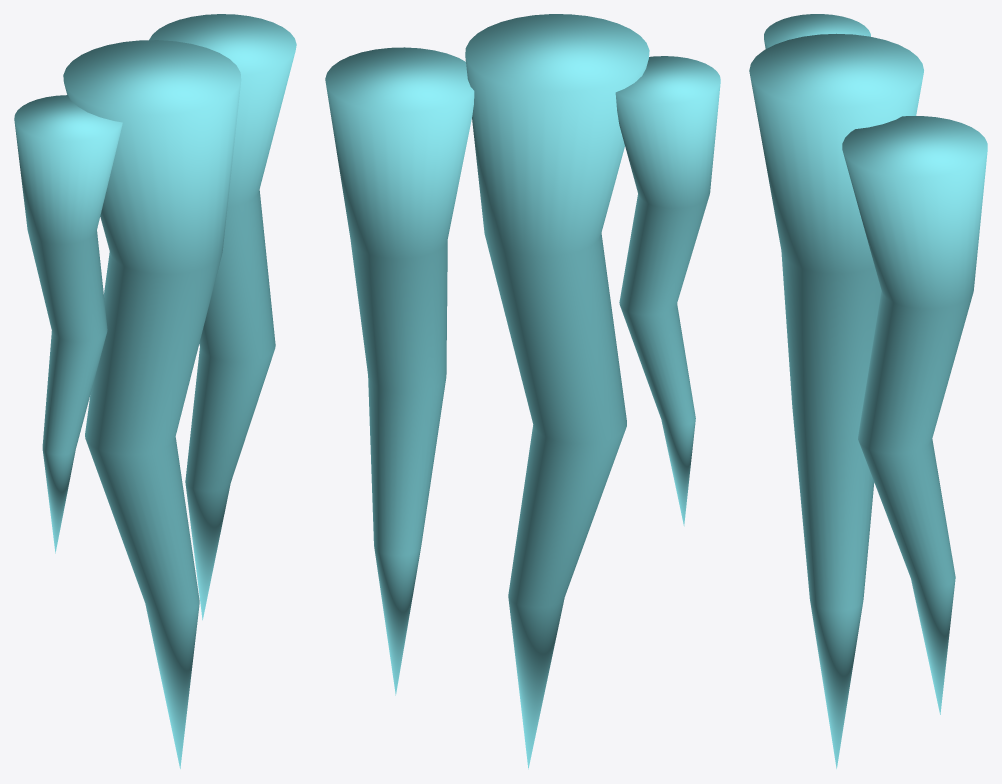
File: Estalactites.fbx
3 renders of one model, left to right at view 1: azimuth 30°, elevation 25°; view 2: azimuth 150°, elevation 25°; view 3: azimuth 270°, elevation 25°, orthographic. The views are drawn at different scales.
Visible parts, largest first — view 1: Cube.002; view 2: Cube.002; view 3: Cube.002.
Boxes of the visible parts, x1,y1,x2,y2 form: Cube.002: (14, 14, 296, 768); Cube.002: (325, 14, 720, 769); Cube.002: (749, 14, 987, 768).
Size of the model in its own units: 137 by 291 by 91.78.
